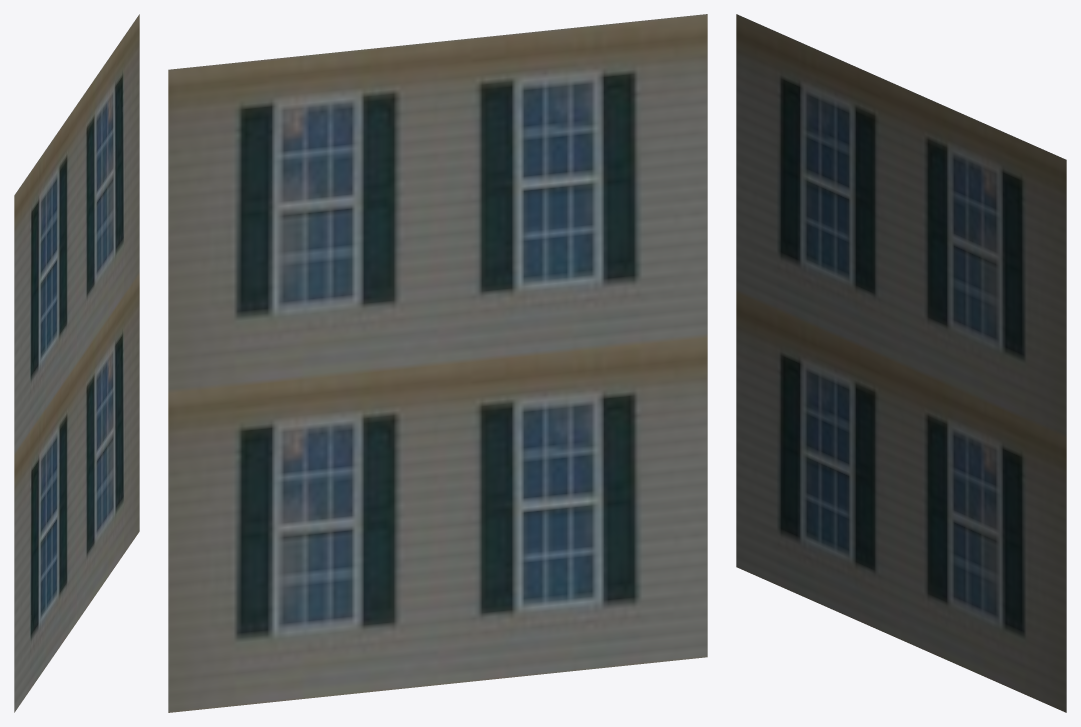
File: ResTex__4151.fbx
3 renders of one model, left to right at view 1: azimuth 30°, elevation 25°; view 2: azimuth 150°, elevation 25°; view 3: azimuth 270°, elevation 25°, orthographic. The views are drawn at different scales.
Parts seen in each view (by area): view 1: CityEngineMaterial_7_m; view 2: CityEngineMaterial_7_m; view 3: CityEngineMaterial_7_m.
Boxes of the visible parts, x1,y1,x2,y2 form: CityEngineMaterial_7_m: (14,14,139,712); CityEngineMaterial_7_m: (168,14,707,712); CityEngineMaterial_7_m: (736,14,1066,712).
Size of the model in its own units: 3.39 by 6 by 3.25.
Materials: 1 (1 with a texture image).
